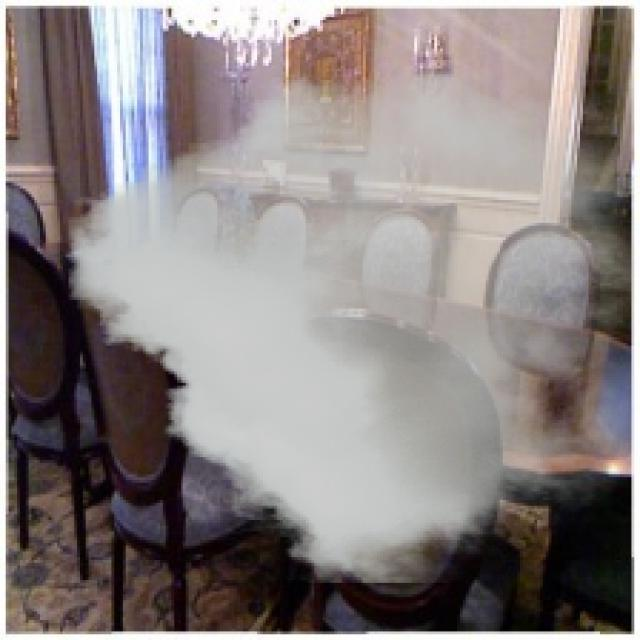Smoke: (68, 68, 634, 583)
